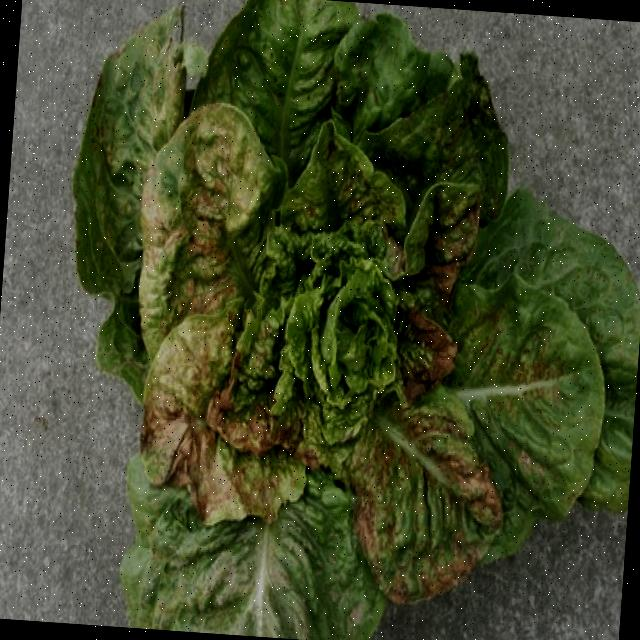Bacterial: (169, 117, 485, 494)
